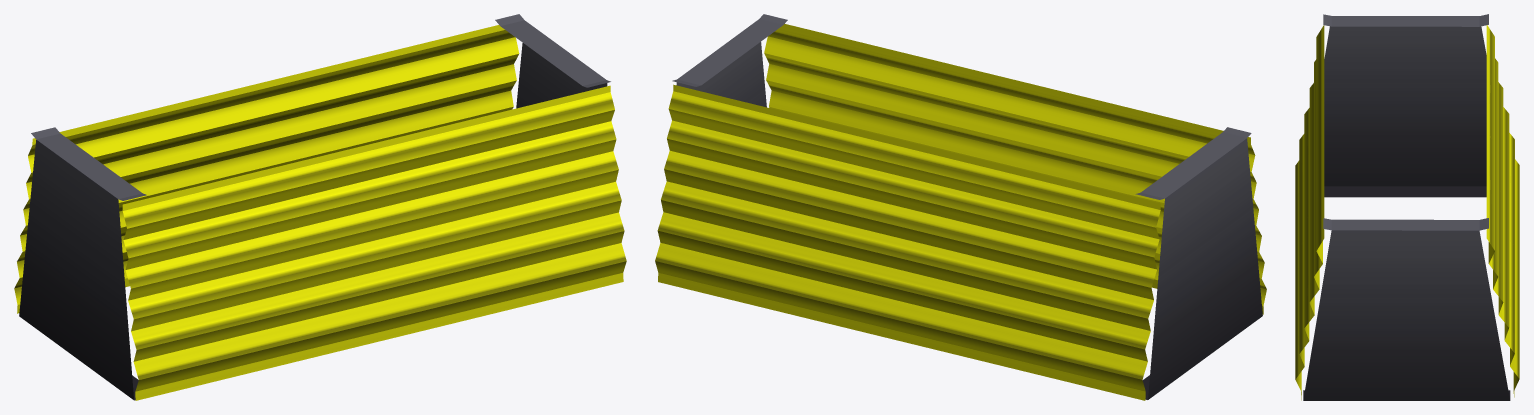
Rendered from equipment_0015_reboundboard2.glb.
The picture shows the model from 3 angles, left to right: view 1: azimuth 30°, elevation 25°; view 2: azimuth 150°, elevation 25°; view 3: azimuth 270°, elevation 25°; orthographic projection. The views are drawn at different scales.
Parts seen in each view (by area): view 1: reboundboard2, reboundboard2b; view 2: reboundboard2, reboundboard2b; view 3: reboundboard2b, reboundboard2.
Boxes of the visible parts, bbox=[...] form: reboundboard2: bbox=[14, 25, 626, 400]; reboundboard2b: bbox=[19, 14, 610, 400]; reboundboard2: bbox=[655, 24, 1266, 400]; reboundboard2b: bbox=[672, 14, 1262, 399]; reboundboard2b: bbox=[1303, 14, 1510, 400]; reboundboard2: bbox=[1295, 25, 1519, 400].
Size of the model in its own units: 120 by 45 by 53.
Materials: 2 (2 with a texture image).
